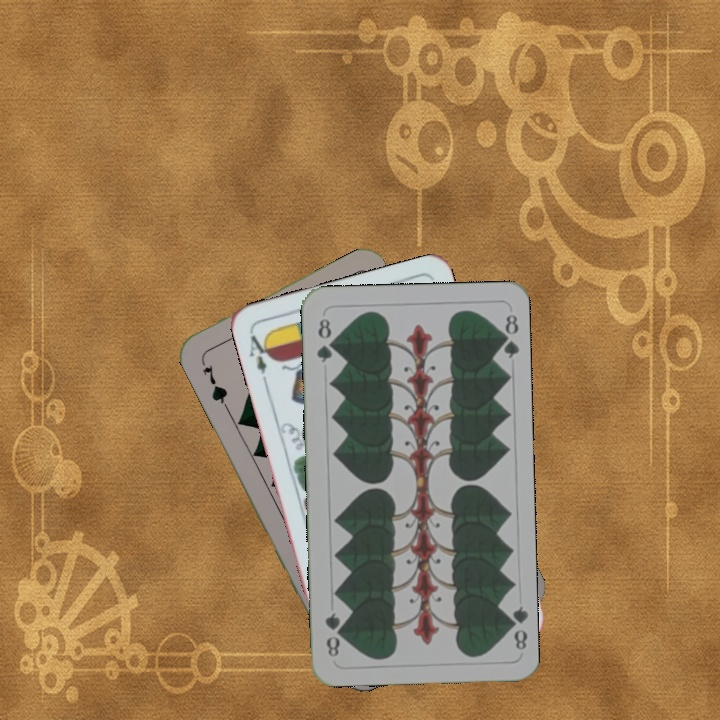EA: (245, 328, 275, 377)
G7: (198, 361, 230, 409)
G8: (502, 602, 530, 652), (312, 314, 336, 365)
